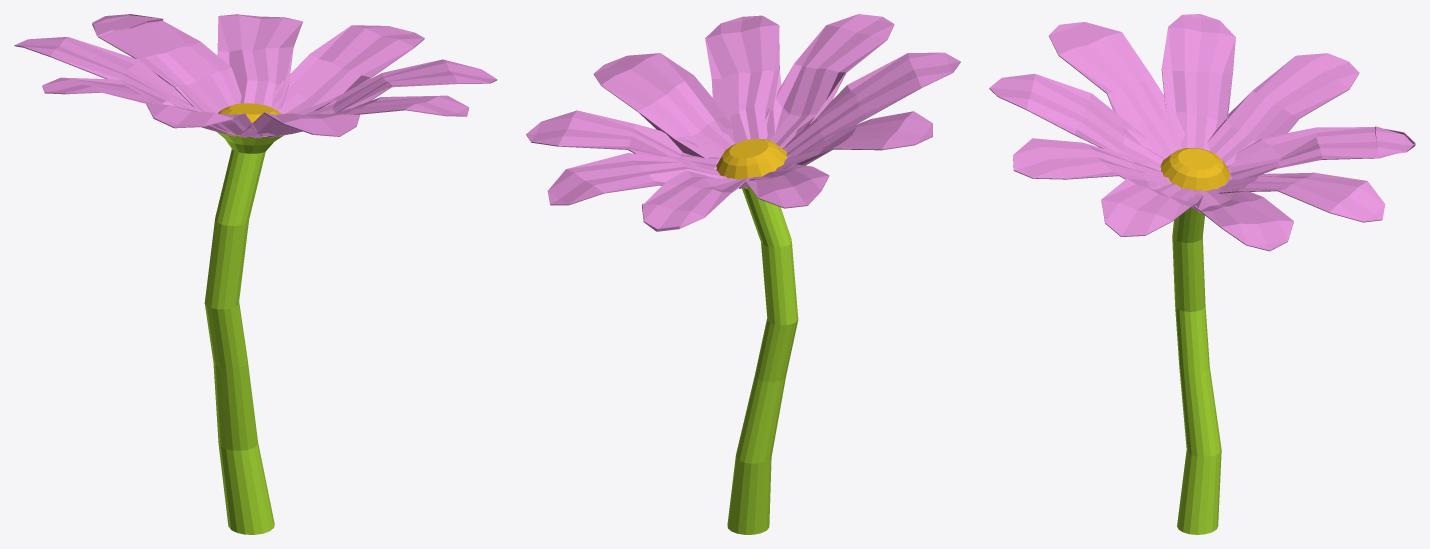
File: low poly flower.fbx
3 renders of one model, left to right at view 1: azimuth 30°, elevation 25°; view 2: azimuth 150°, elevation 25°; view 3: azimuth 270°, elevation 25°, orthographic. The views are drawn at different scales.
Visible parts, largest first — view 1: Circle, Circle.001; view 2: Circle, Circle.001; view 3: Circle, Circle.001.
Boxes of the visible parts, x1=… form: Circle: x1=14, y1=14, x2=497, y2=138; Circle.001: x1=204, y1=103, x2=283, y2=534; Circle: x1=526, y1=14, x2=960, y2=231; Circle.001: x1=716, y1=139, x2=798, y2=534; Circle: x1=989, y1=14, x2=1415, y2=251; Circle.001: x1=1160, y1=148, x2=1230, y2=534.
Size of the model in its own units: 911 by 1049 by 933.
